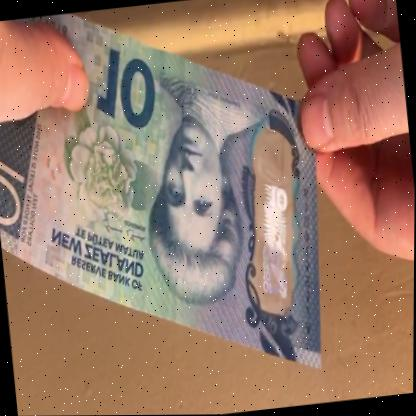10B: (249, 179, 304, 309)
